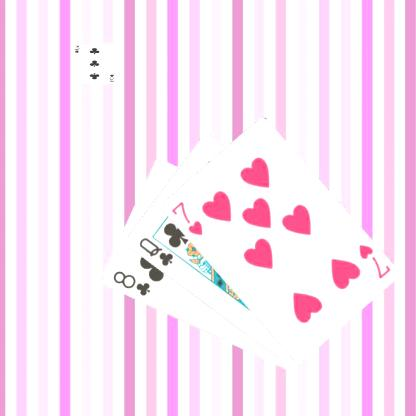7H: (168, 198, 204, 238), (355, 242, 392, 280)
8C: (110, 268, 151, 298)
QC: (136, 234, 174, 268)
